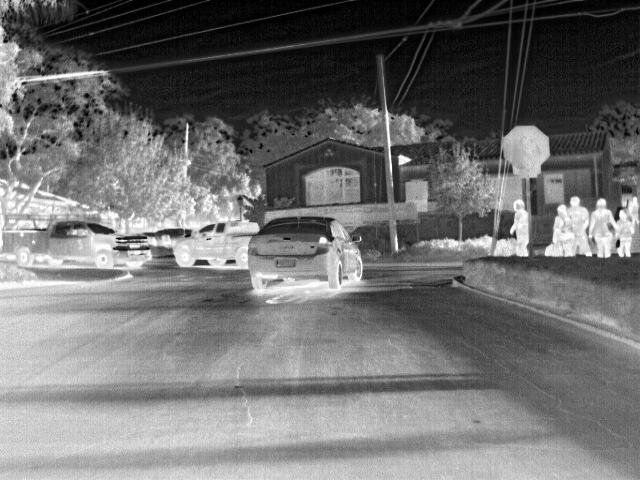car: (249, 214, 364, 294), (0, 217, 152, 271), (173, 218, 250, 267), (152, 225, 172, 244)
person: (589, 196, 614, 261), (564, 195, 588, 258), (510, 197, 529, 257), (552, 203, 568, 258), (616, 208, 632, 257)
